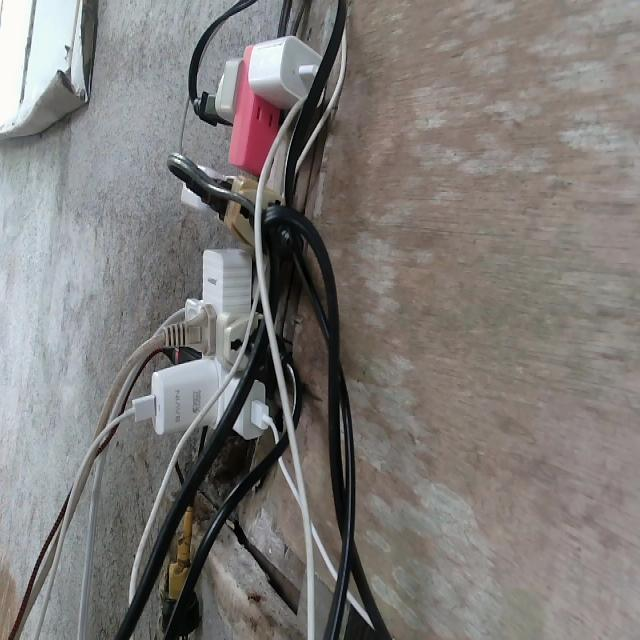-: (132, 32, 338, 441)
